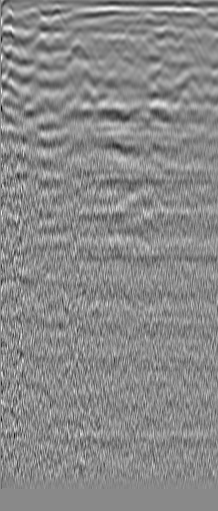오수: (29, 14, 49, 34)
우수: (179, 18, 199, 38)
